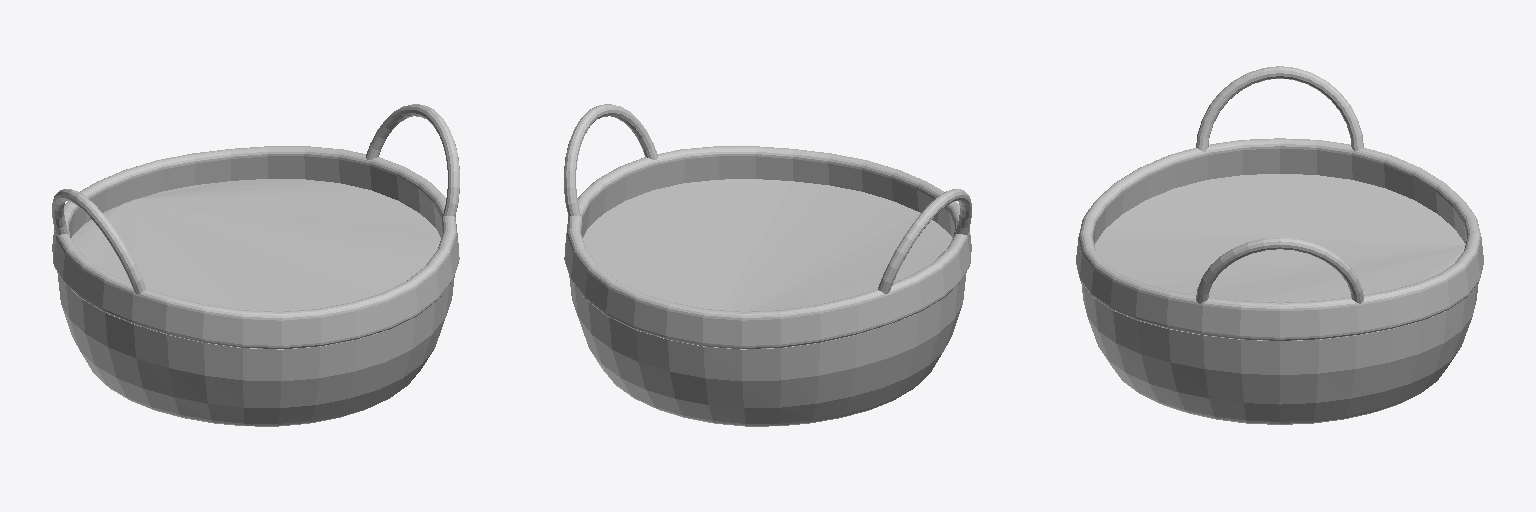
The model's file is SetA_BasketEmpty_Style_02.obj.
3 views of the same model, side by side, from view 1: azimuth 30°, elevation 25°; view 2: azimuth 150°, elevation 25°; view 3: azimuth 270°, elevation 25° (orthographic).
Parts seen in each view (by area): view 1: SetA_BasketEmpty_Style_02; view 2: SetA_BasketEmpty_Style_02; view 3: SetA_BasketEmpty_Style_02.
Boxes of the visible parts, x1,y1,x2,y2 form: SetA_BasketEmpty_Style_02: [52, 104, 459, 426]; SetA_BasketEmpty_Style_02: [564, 104, 971, 426]; SetA_BasketEmpty_Style_02: [1076, 66, 1483, 424].
Size of the model in its own units: 0.693 by 0.3811 by 0.6793.